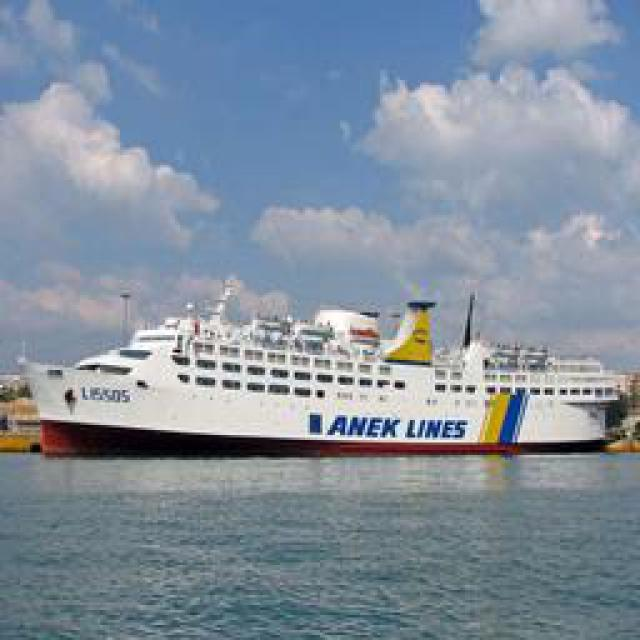Ship: (16, 291, 631, 454)
